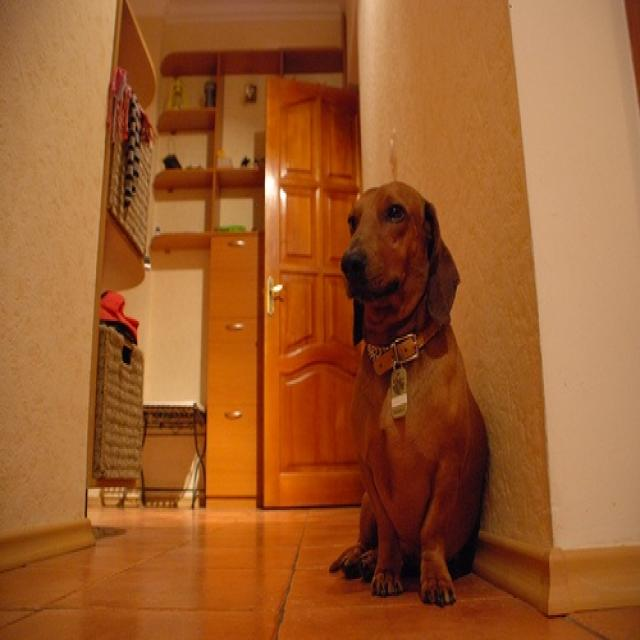dog: (332, 176, 486, 604)
